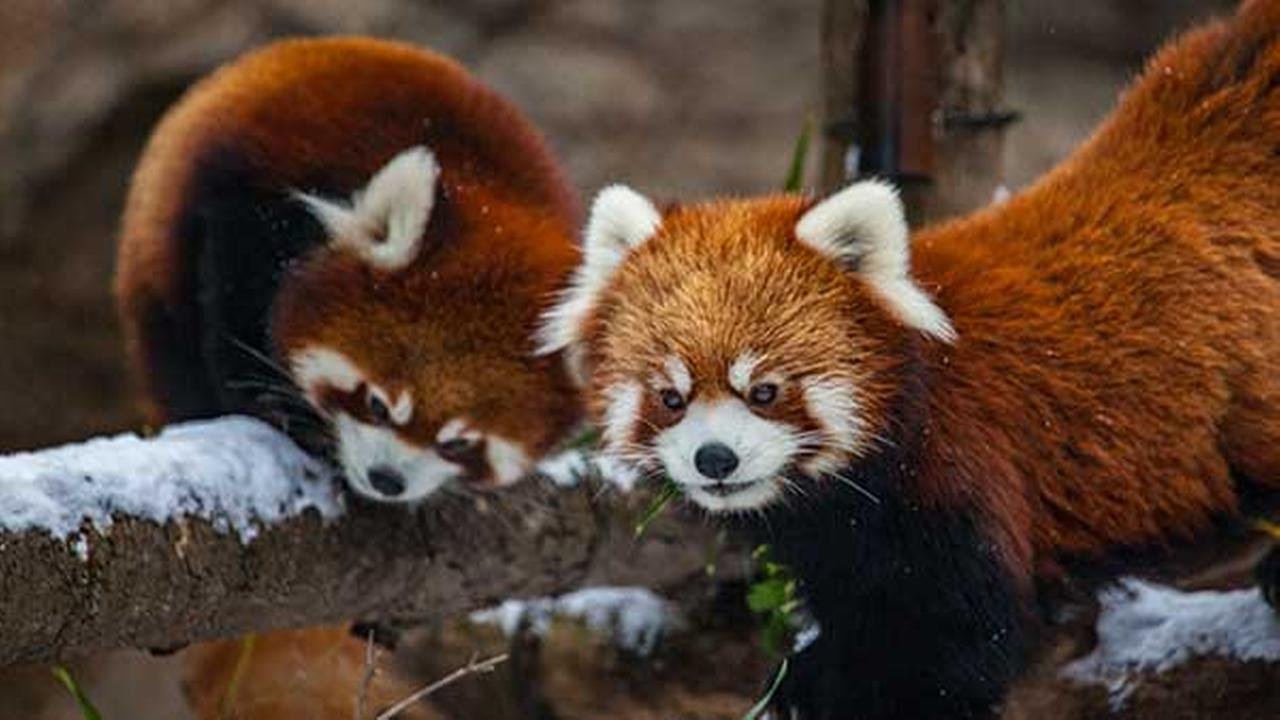red_panda: (565, 58, 1280, 720), (113, 40, 583, 519)
